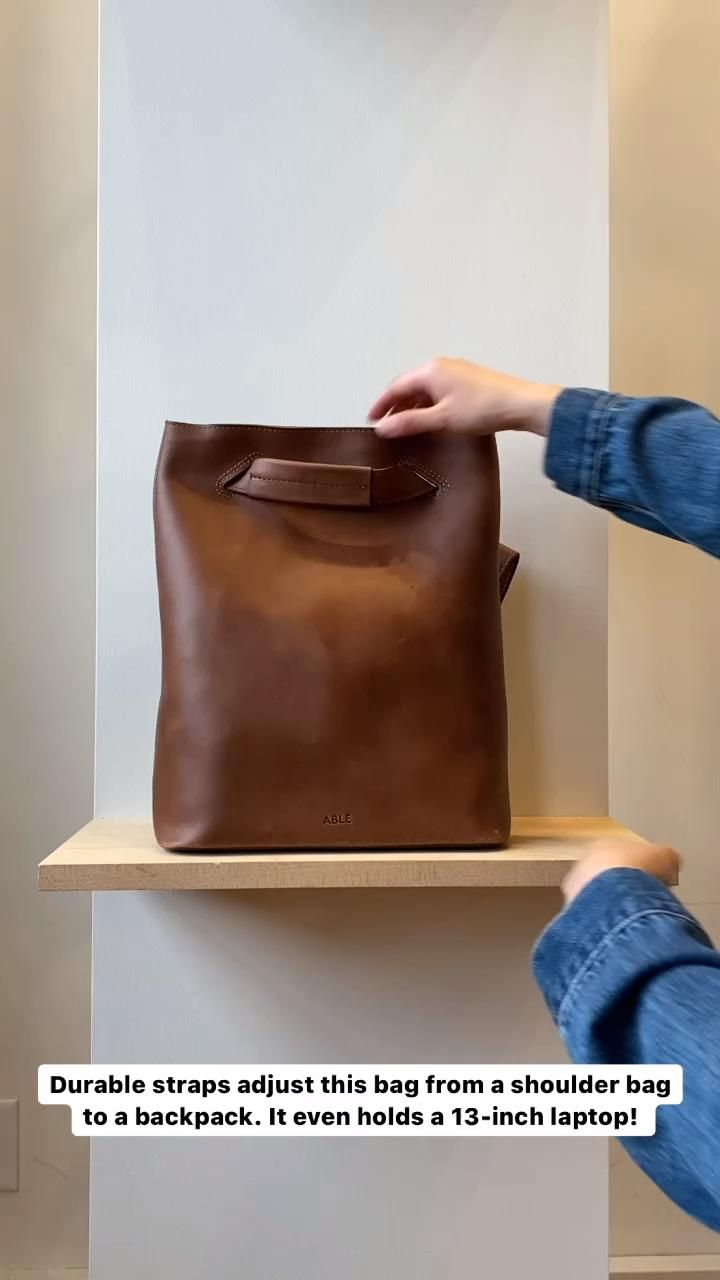cuero: (152, 420, 523, 847)
